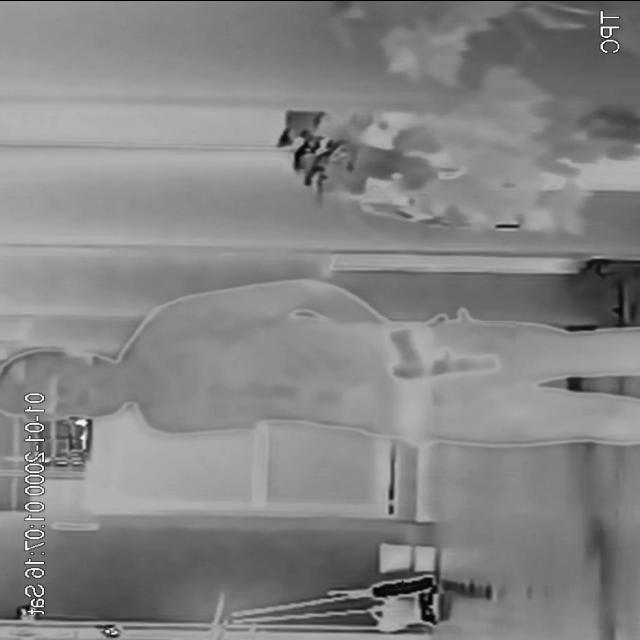Weapon: (380, 318, 516, 399)
